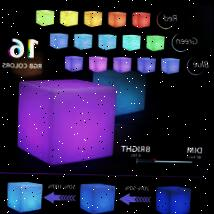cube: (17, 78, 117, 166), (7, 179, 46, 212), (80, 183, 118, 214), (155, 184, 192, 214)
